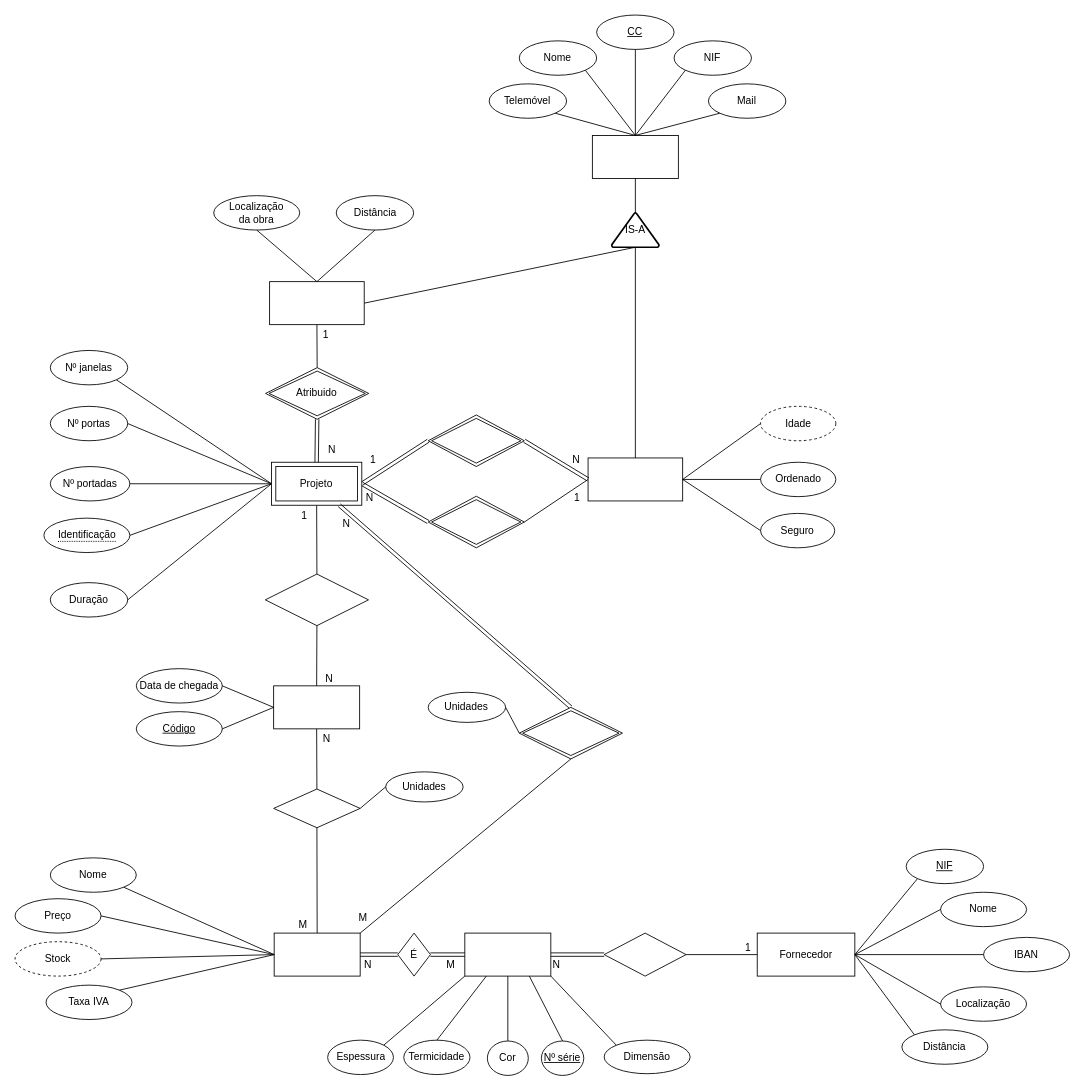
This 1085x1090 diagram has some shape labels left out. The shapes that lost their labels are listed below. From the top down, each one's centre as x and y in pixels, then its label:
(x=635, y=156): Pessoa
(x=316, y=303): Cliente
(x=475, y=440): Envolve
(x=635, y=479): Funcionário
(x=475, y=521): Responsável
(x=316, y=599): Realizada
(x=316, y=707): Encomenda
(x=570, y=732): Necessita
(x=316, y=808): Contém
(x=316, y=954): Material
(x=507, y=954): Tipo de Material
(x=644, y=954): Fornece
